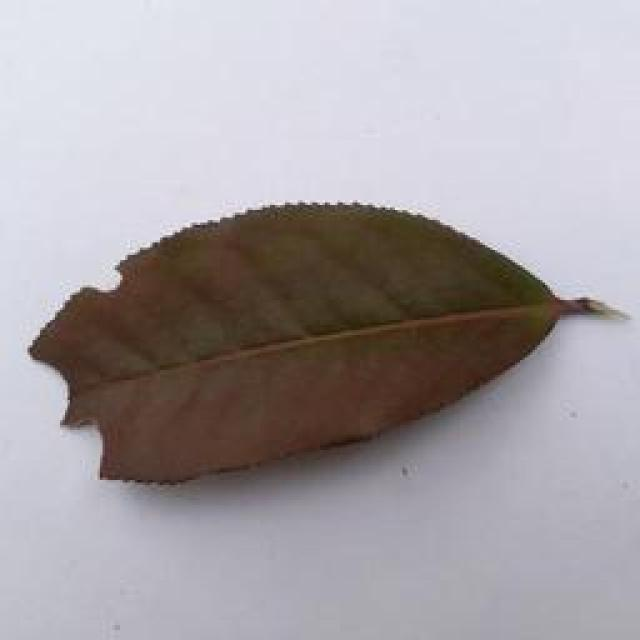Red Leaf Spot: (18, 174, 640, 532)
